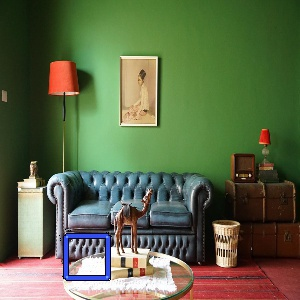square: (61, 232, 112, 283)
